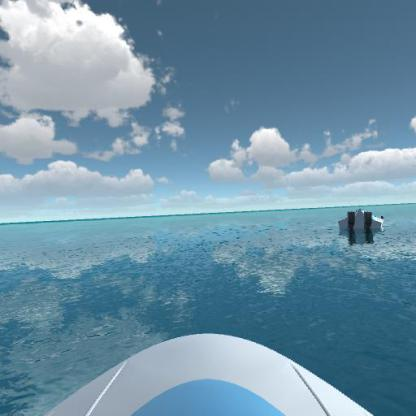usv1: (334, 201, 388, 238)
